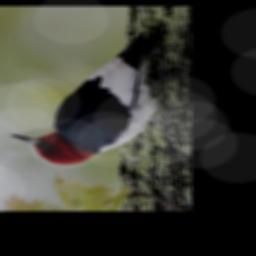Woodpecker: (2, 22, 176, 167)
